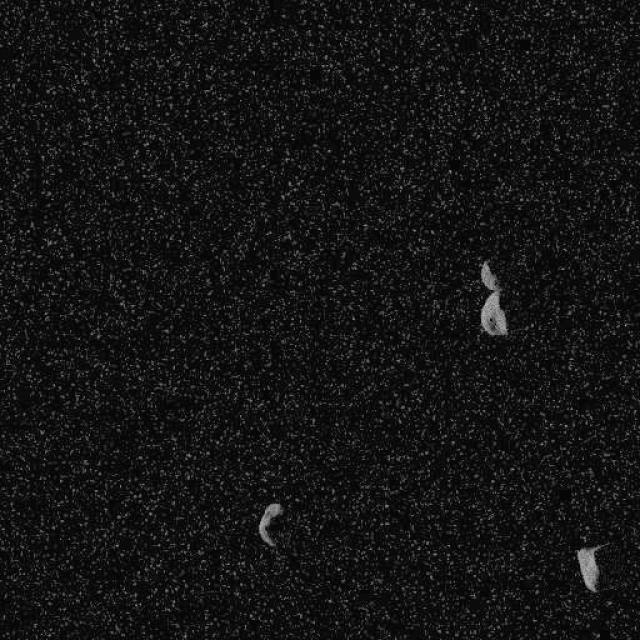D2: (478, 258, 508, 338), (575, 542, 606, 592), (258, 502, 282, 548)
